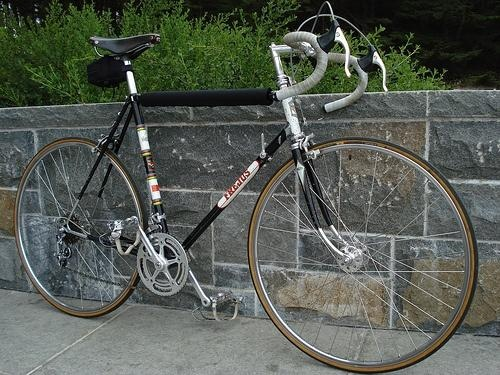bicycle: (10, 2, 487, 373)
